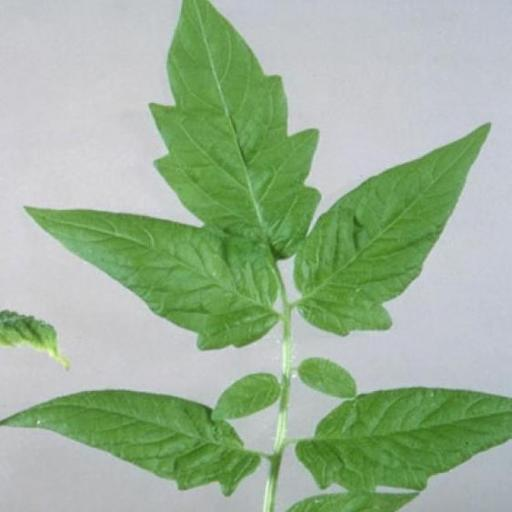Healthy: (148, 1, 320, 264), (296, 114, 494, 337), (26, 204, 284, 352), (0, 387, 263, 497), (293, 387, 512, 492)
